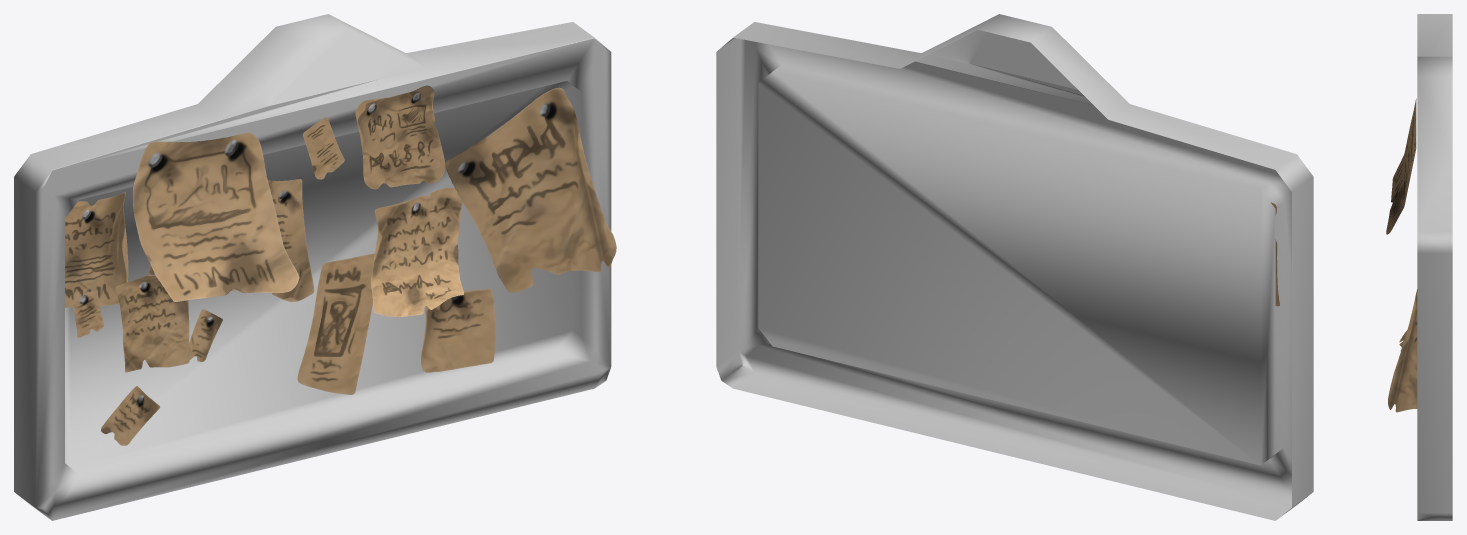
File: PosterBoard_1.fbx
The picture shows the model from 3 angles, left to right: view 1: azimuth 30°, elevation 25°; view 2: azimuth 150°, elevation 25°; view 3: azimuth 270°, elevation 25°; orthographic projection. The views are drawn at different scales.
Visible parts, largest first — view 1: Mesh; view 2: Mesh; view 3: Mesh.
Boxes of the visible parts, x1,y1,x2,y2 form: Mesh: (14,14,616,520); Mesh: (716,14,1313,520); Mesh: (1386,14,1452,520).
Size of the model in its own units: 275 by 192 by 52.87.
